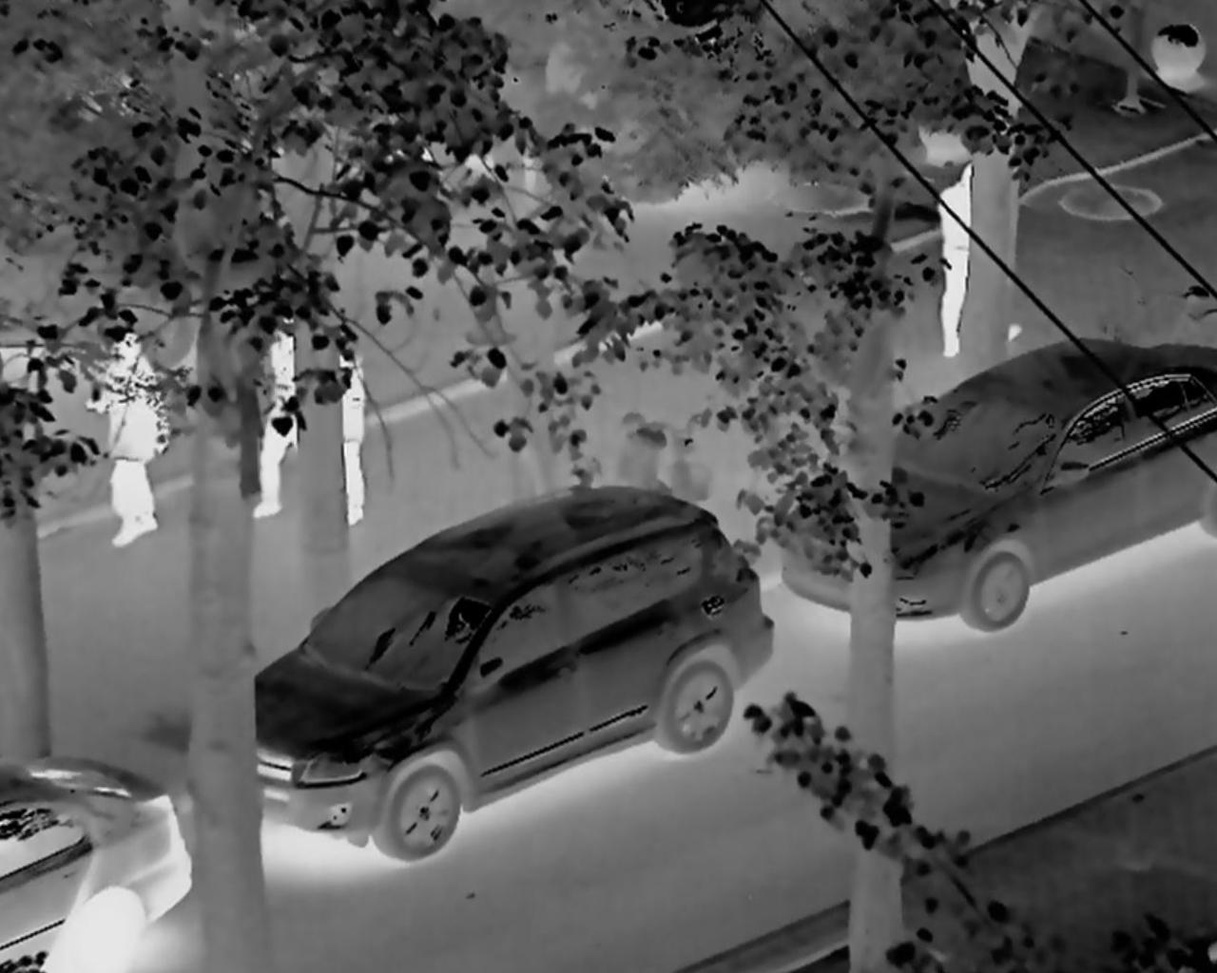person: (87, 330, 173, 545), (252, 317, 302, 524), (930, 153, 976, 355), (321, 334, 367, 525)
